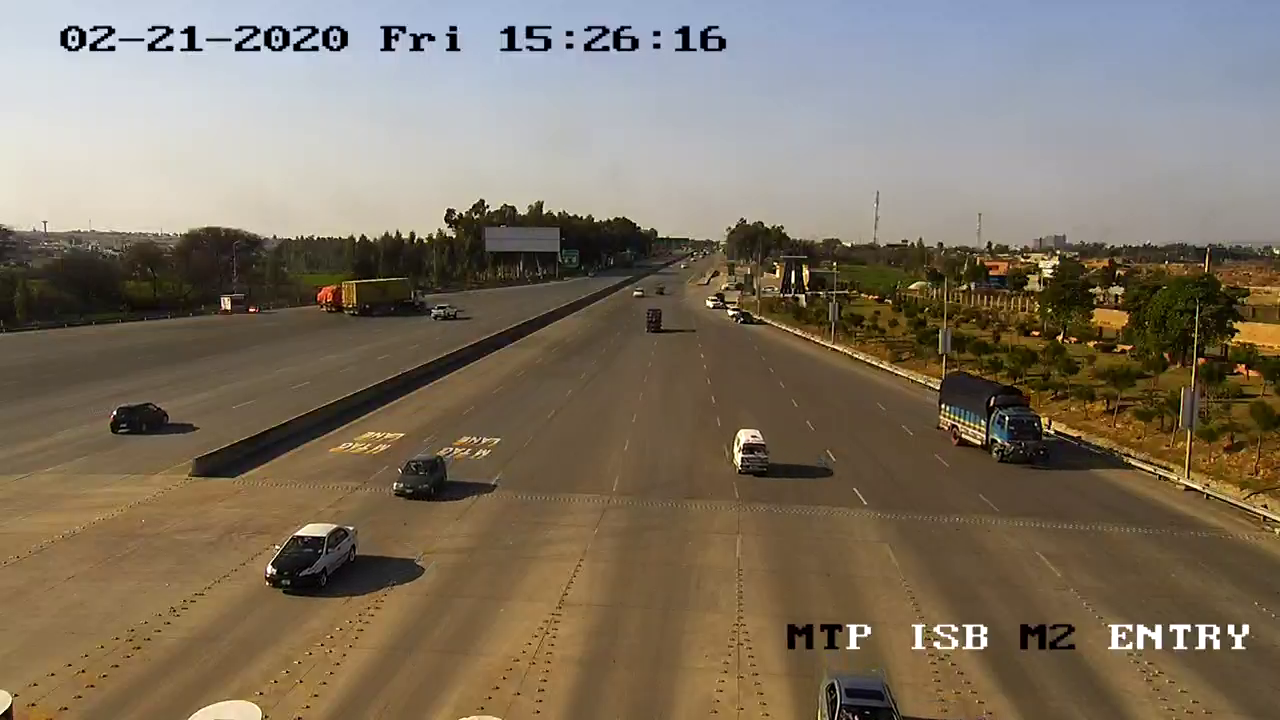f1: (258, 515, 362, 600), (388, 444, 456, 505), (727, 420, 775, 483)
f5: (927, 367, 1053, 471)
